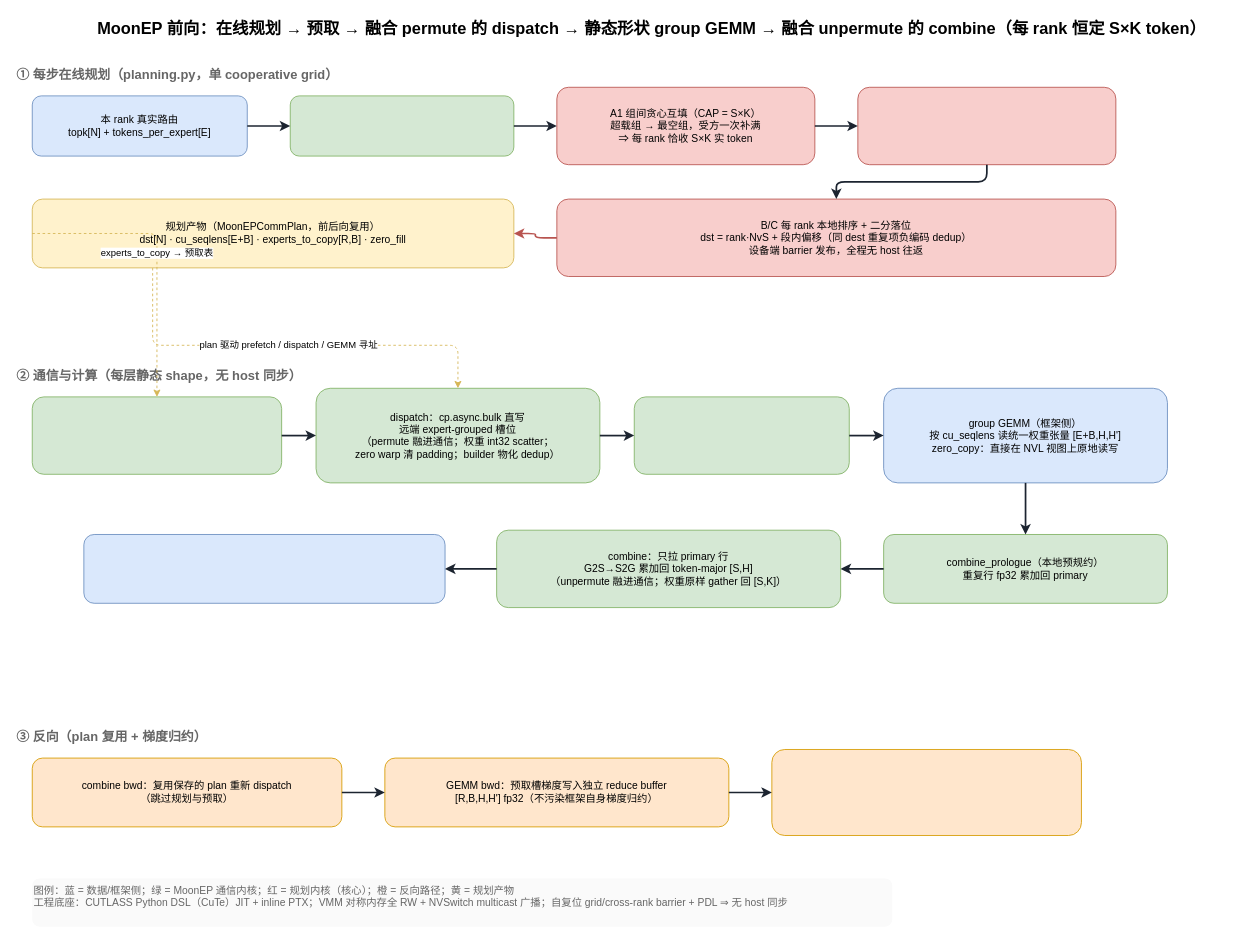
Image size: 1250x941. Some labels were removed from this diagram. The shapes that lost their labels are listed below. From the top down, each one's centre as x and y in pixels, then its label:
At [401,125]: "A0 汇聚：multimem 多播 tpe/topk rank0 算专家前缀和 + 组 token".
At [986,125]: "A2 专家级过户 alloc[e,d] A3 选 B 个预取专家 + 铺 cu_seqlens rank0 一次广播整张规划表".
At [156,435]: "prefetch_weight（与 dispatch 并行） 2D TMA 把 B 个远端专家权重 拷入本 rank 预取槽 [E,E+B)".
At [741,435]: "dispatch_epilogue（本地） primary 行扇出到全部副本槽".
At [264,568]: "输出 hidden_sh[S,H] + route_weights_sk[S,K] 每 rank 计算量恒定 S×K token、形状完全静态".
At [926,792]: "grad_reduce：每个 home rank 经 NVLink 远端读回自己专家的槽梯度、fp32 累加 cross_rank_barrier 后只本地清槽".
